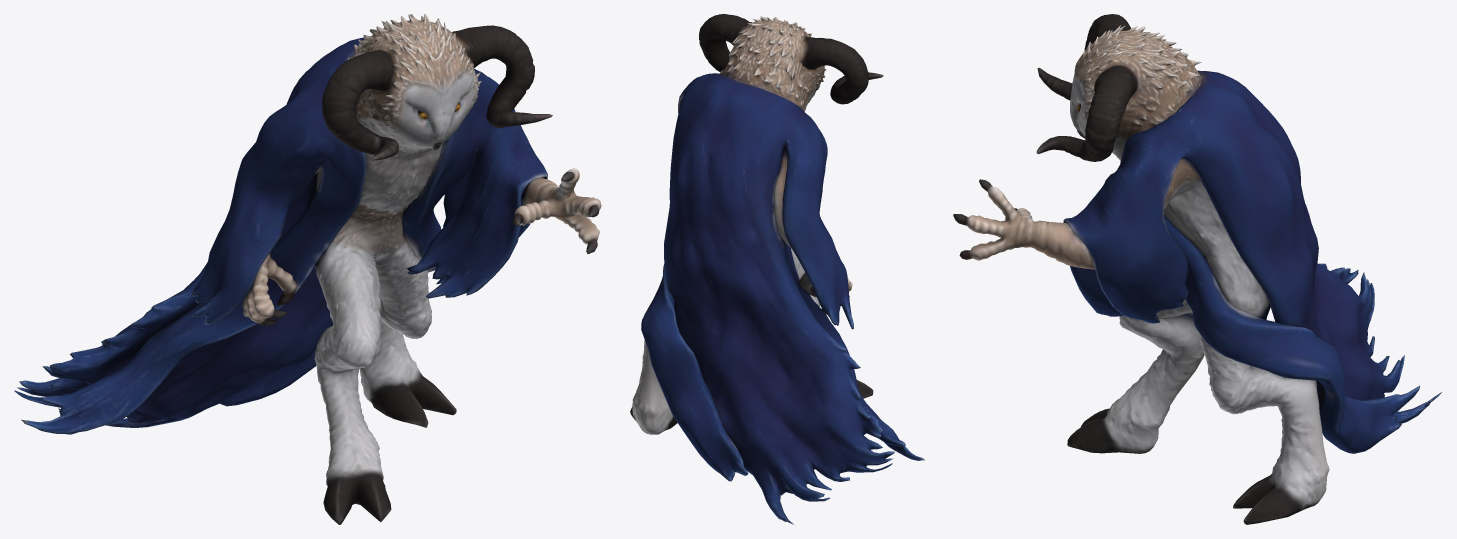
Rendered from MZ4250 - Auril (First Form).glb.
The picture shows the model from 3 angles, left to right: view 1: azimuth 30°, elevation 25°; view 2: azimuth 150°, elevation 25°; view 3: azimuth 270°, elevation 25°; orthographic projection. The views are drawn at different scales.
Visible parts, largest first — view 1: ORGANIC BASE SPHERE.001; view 2: ORGANIC BASE SPHERE.001; view 3: ORGANIC BASE SPHERE.001.
Boxes of the visible parts, x1,y1,x2,y2 form: ORGANIC BASE SPHERE.001: [14, 14, 601, 524]; ORGANIC BASE SPHERE.001: [630, 14, 924, 524]; ORGANIC BASE SPHERE.001: [953, 14, 1441, 524].
Size of the model in its own units: 30.15 by 33.44 by 32.44.
1 material, 1 textured.
